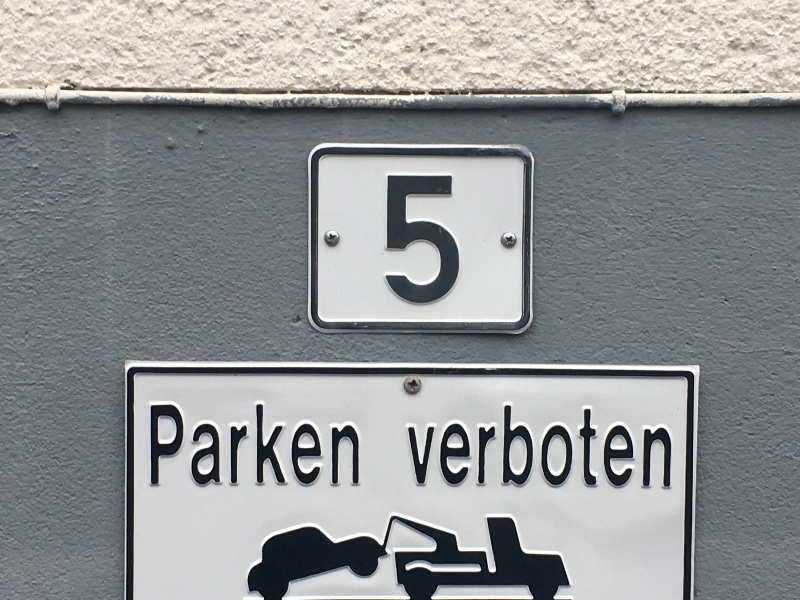text: (449, 174, 465, 307), (401, 174, 416, 307), (417, 174, 432, 307), (433, 174, 448, 307), (386, 174, 400, 307), (401, 400, 416, 496), (417, 400, 432, 496), (433, 400, 448, 496), (449, 400, 464, 496), (465, 400, 480, 496), (481, 400, 496, 496), (497, 400, 512, 496), (513, 400, 528, 496), (529, 400, 544, 496), (545, 400, 560, 496), (561, 400, 576, 496), (577, 400, 592, 496), (593, 400, 608, 496), (609, 400, 624, 496), (625, 400, 640, 496), (641, 400, 656, 496), (657, 400, 672, 496), (161, 404, 176, 495), (177, 404, 192, 495), (193, 404, 208, 495), (209, 404, 224, 495), (225, 404, 240, 495), (241, 404, 256, 495), (257, 404, 272, 495), (273, 404, 288, 495), (289, 404, 304, 495), (305, 404, 320, 495), (321, 404, 336, 495), (337, 404, 352, 495), (149, 404, 160, 495), (353, 404, 361, 495), (673, 400, 674, 496)
